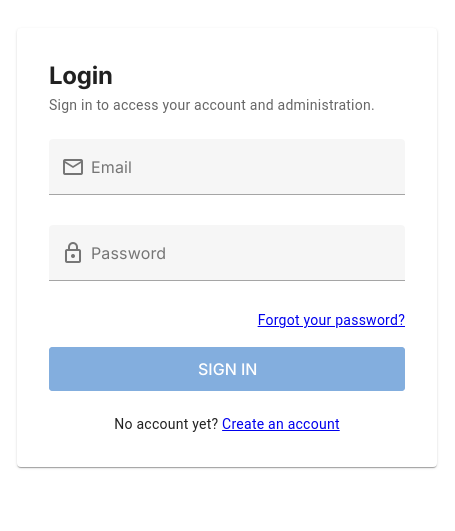
it: Login.vue › displays error message when login fails
Type "john@example.com" into the field labelled "Email" at [245, 168], box top-left (85, 140), bottom-right (405, 196)
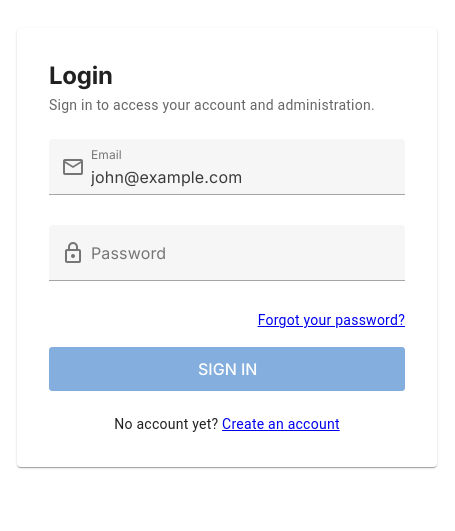
Type "wrongpassword" into the password field labelled "Password" at [245, 254], box top-left (85, 226), bottom-right (405, 282)
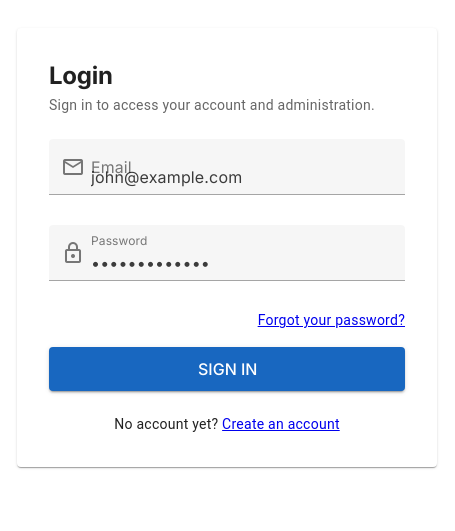
Submit the form, box top-left (49, 140), bottom-right (405, 392)
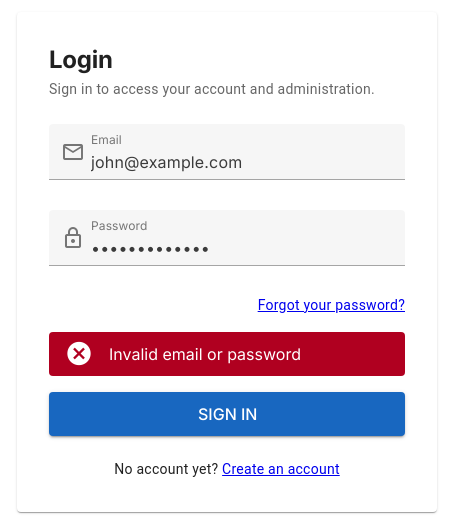
Now the text "Invalid email or password" is shown, box top-left (109, 344), bottom-right (301, 364)
